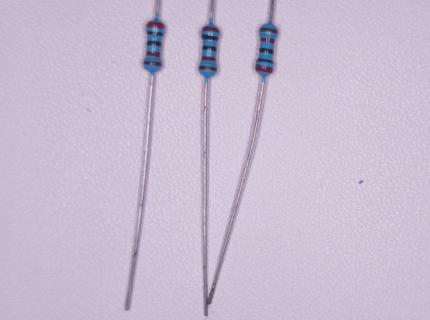Black band: (202, 35, 219, 40), (147, 31, 163, 36), (256, 59, 274, 63), (260, 48, 274, 53), (147, 41, 161, 46), (203, 46, 216, 51)
Brown band: (144, 61, 162, 67), (259, 28, 278, 33), (199, 66, 217, 70)
Red band: (255, 66, 273, 72), (202, 27, 219, 32), (201, 56, 216, 61), (260, 38, 275, 43), (146, 52, 160, 57), (147, 23, 164, 27)
